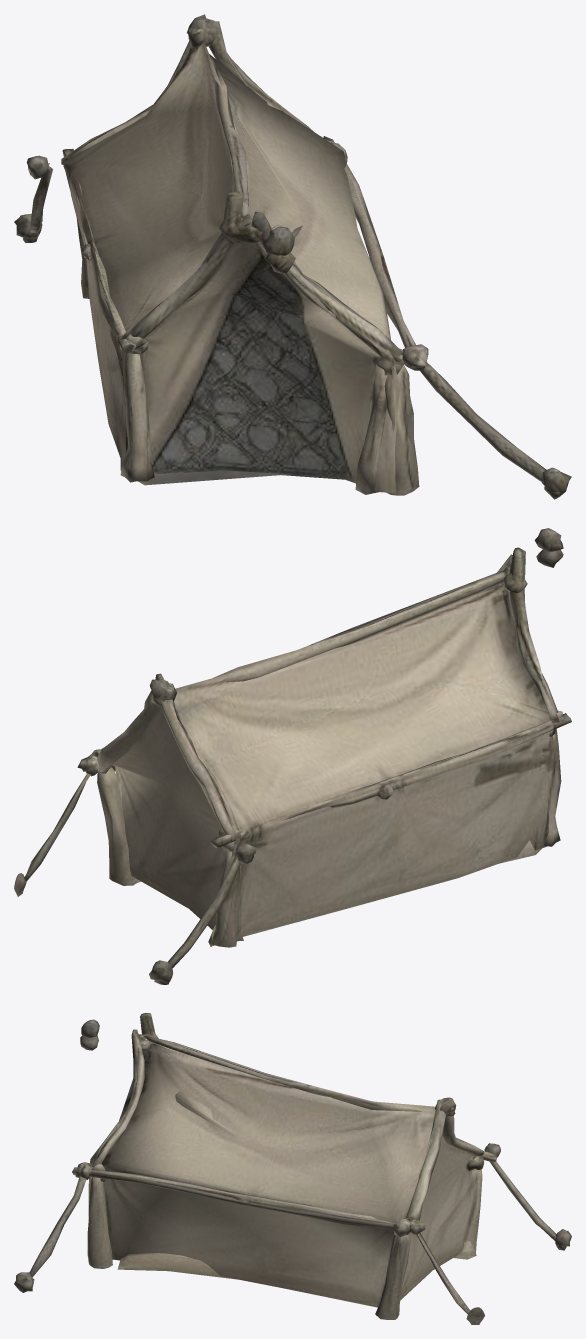
The model's file is av_barraca.glb.
3 renders of one model, top to bottom at view 1: azimuth 30°, elevation 25°; view 2: azimuth 150°, elevation 25°; view 3: azimuth 270°, elevation 25°, orthographic. The views are drawn at different scales.
Visible parts, largest first — view 1: Mesh_0.016; view 2: Mesh_0.016; view 3: Mesh_0.016.
Part boxes in pixels (bbox=[...]): Mesh_0.016: bbox=[14, 14, 571, 499]; Mesh_0.016: bbox=[14, 528, 571, 984]; Mesh_0.016: bbox=[14, 1013, 571, 1324].
Size of the model in its own units: 0.1699 by 0.123 by 0.292.
Materials: 1 (1 with a texture image).
